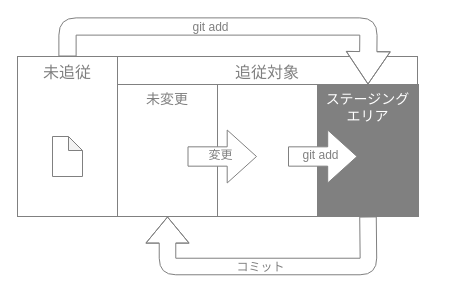
Image size: 463x292. Some labels were removed from this diagram. The shapes that lost their labels are listed below. From the top down, each one's centre as x and y in pixels, then its label:
At [67,156]: "new!".
At [267,150]: "変更済み".
